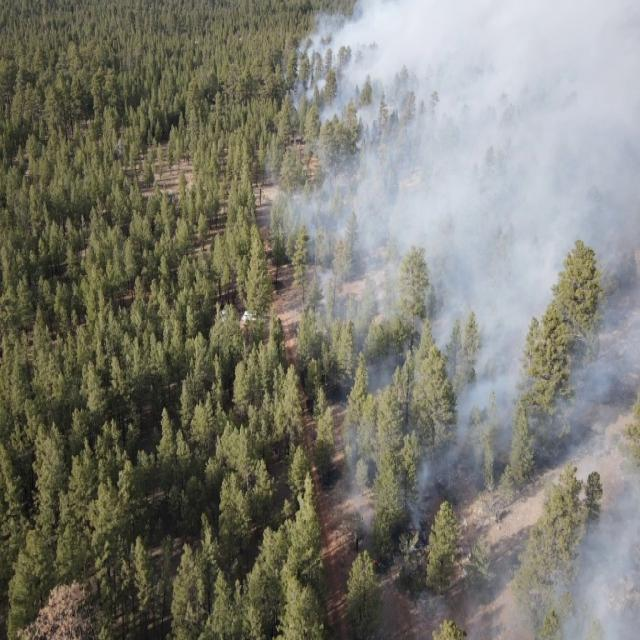smoke: (273, 0, 640, 528), (493, 526, 640, 640)
